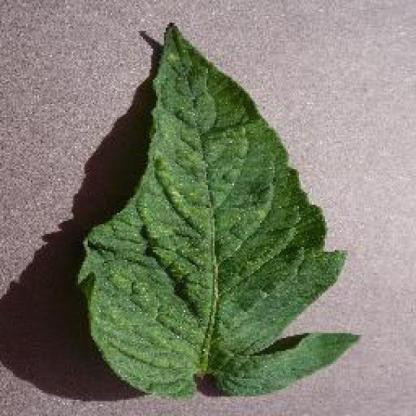Tomato_Spider_Mites: (81, 25, 360, 394)
